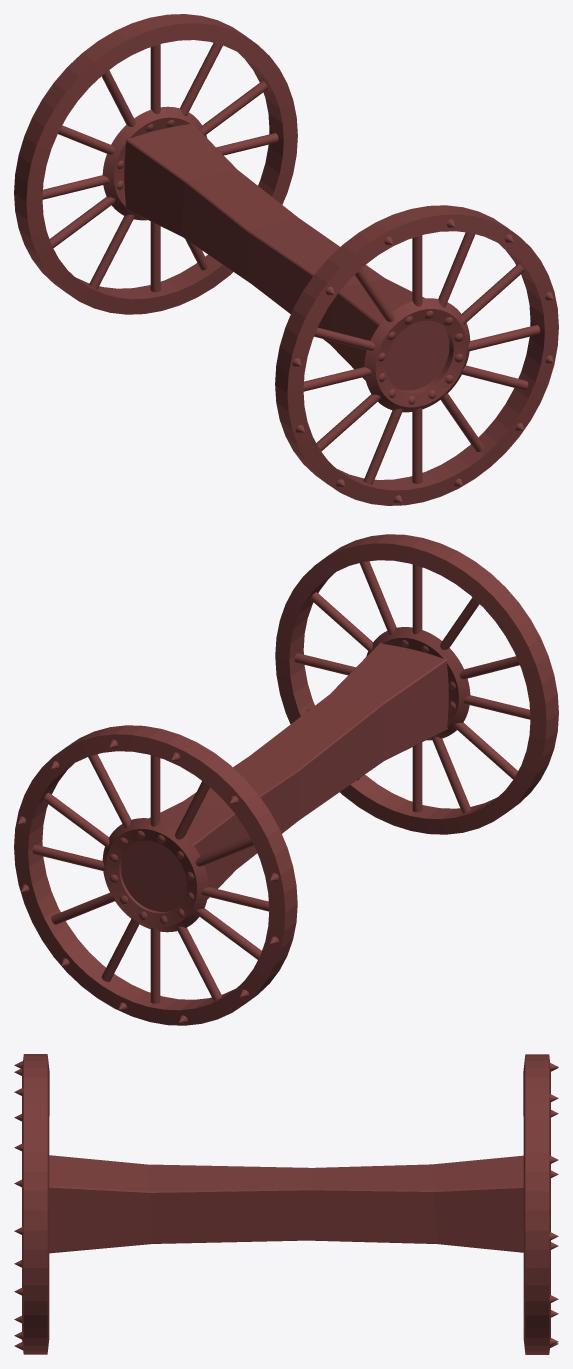
The model's file is WheelsAndAxel.obj.
3 views of the same model, one above another, from view 1: azimuth 30°, elevation 25°; view 2: azimuth 150°, elevation 25°; view 3: azimuth 270°, elevation 25° (orthographic). The views are drawn at different scales.
Parts seen in each view (by area): view 1: Wheels_Cone.001; view 2: Wheels_Cone.001; view 3: Wheels_Cone.001.
Boxes of the visible parts, x1,y1,x2,y2 form: Wheels_Cone.001: [14, 14, 558, 505]; Wheels_Cone.001: [14, 534, 558, 1025]; Wheels_Cone.001: [14, 1054, 558, 1354].
Size of the model in its own units: 0.5868 by 0.5865 by 1.06.
